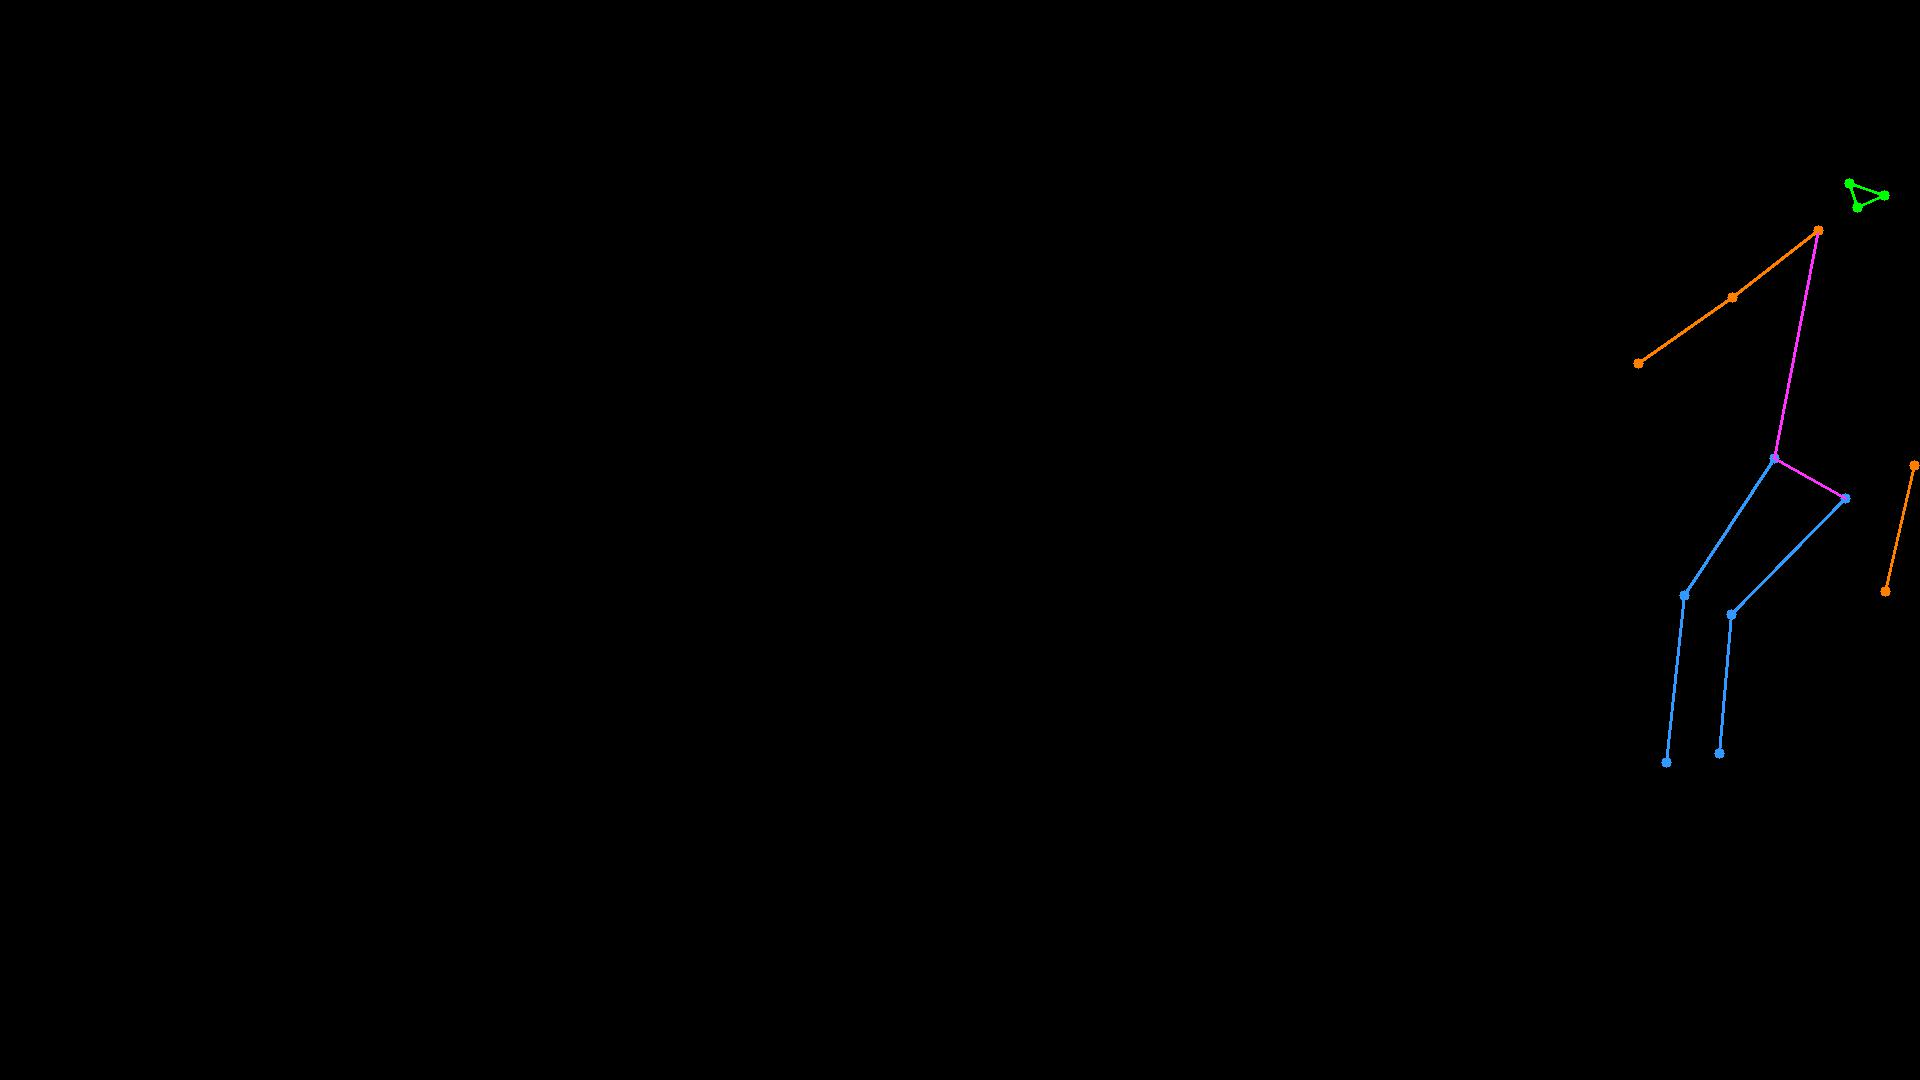normal: (1609, 145, 1920, 802)
